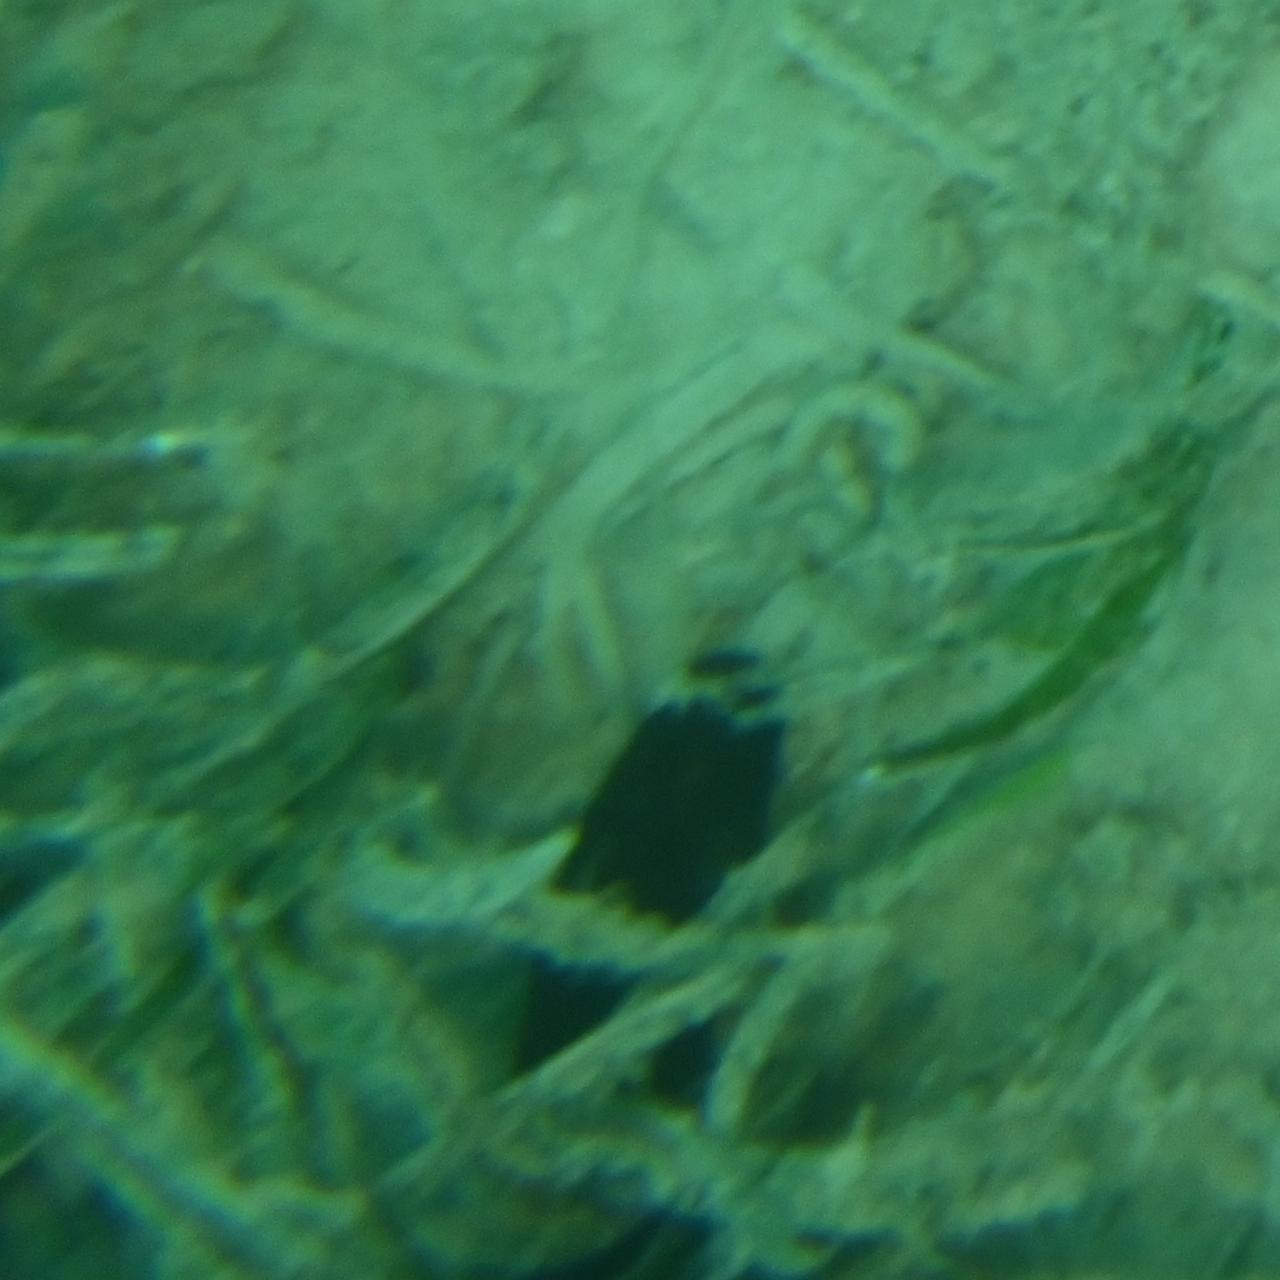Holothuria tubulosa: (489, 632, 791, 1280)
